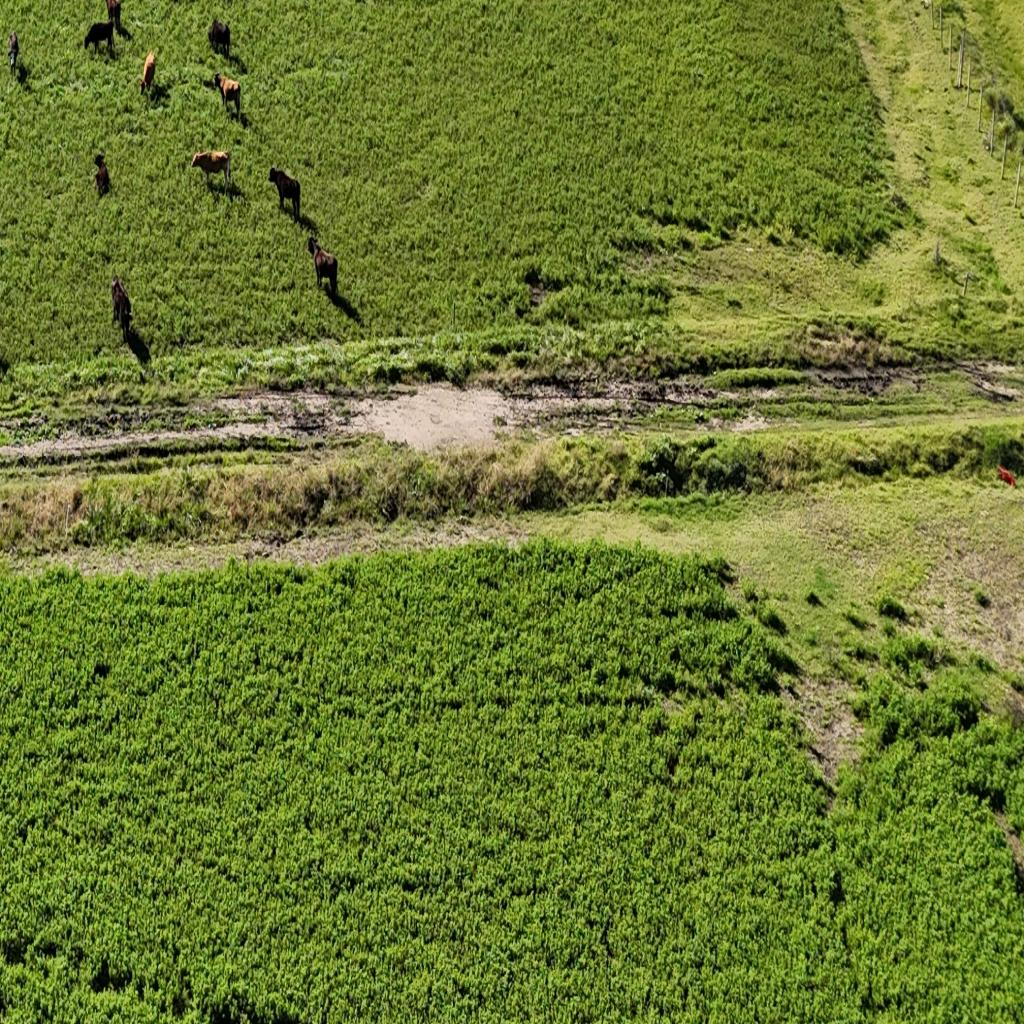cow: (189, 147, 233, 192), (306, 236, 336, 299), (320, 282, 362, 326), (269, 167, 300, 221), (120, 320, 153, 368), (110, 276, 132, 342), (286, 204, 320, 243), (214, 72, 241, 119), (84, 19, 114, 57), (207, 18, 231, 58), (140, 49, 156, 98), (92, 155, 110, 197), (105, 0, 122, 31), (8, 32, 18, 76)
